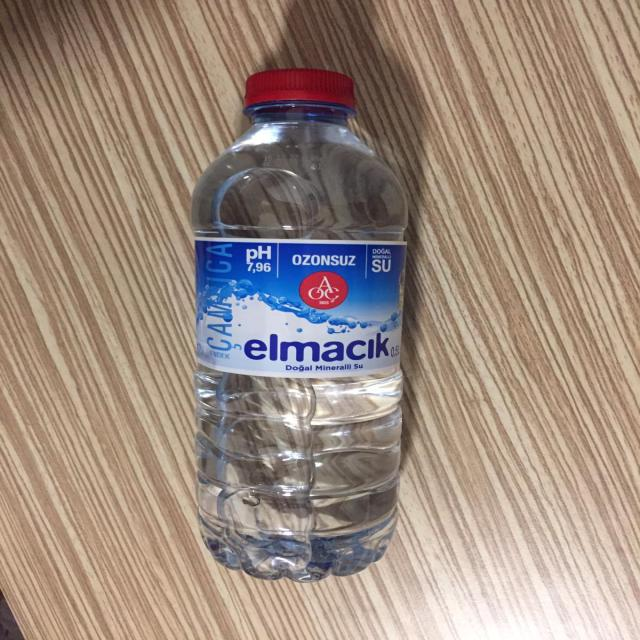bottle: (193, 68, 408, 583)
